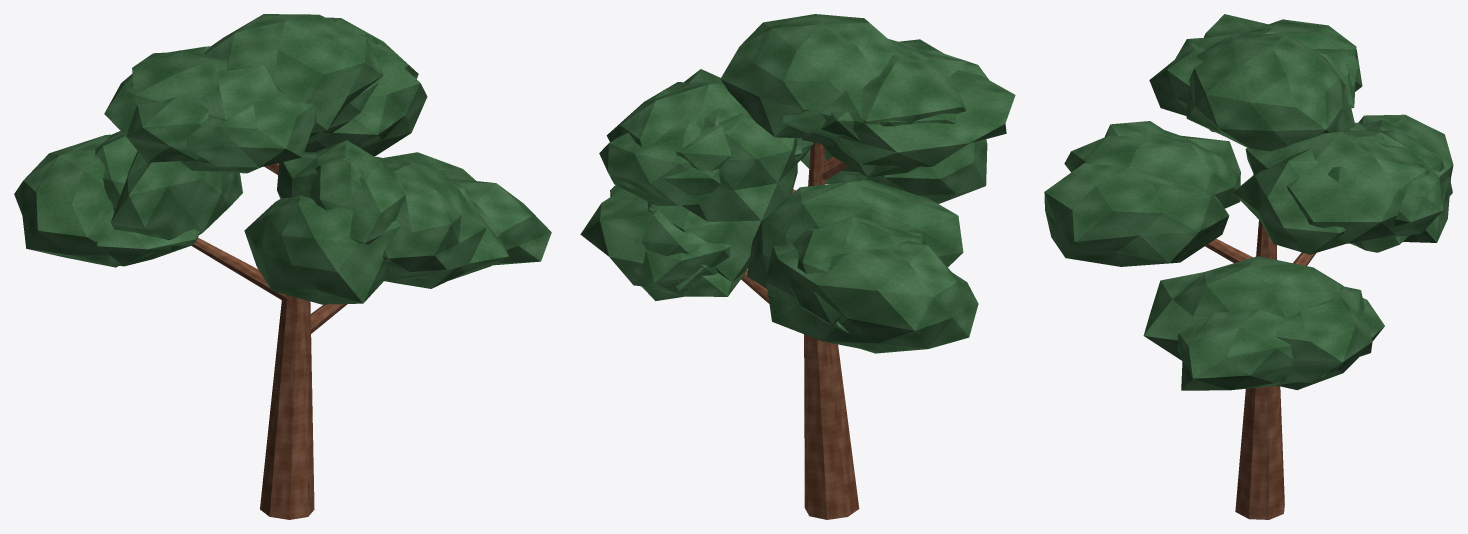
Rendered from river_pine.gltf.
3 renders of one model, left to right at view 1: azimuth 30°, elevation 25°; view 2: azimuth 150°, elevation 25°; view 3: azimuth 270°, elevation 25°, orthographic. The views are drawn at different scales.
Visible parts, largest first — view 1: river_pine; view 2: river_pine; view 3: river_pine.
Boxes of the visible parts, x1,y1,x2,y2 form: river_pine: (14, 14, 551, 519); river_pine: (580, 14, 1015, 519); river_pine: (1044, 14, 1453, 519).
Bounding box in the file's own units: 6.66 × 7.2 × 5.75.
Materials: 2 (2 with a texture image).
